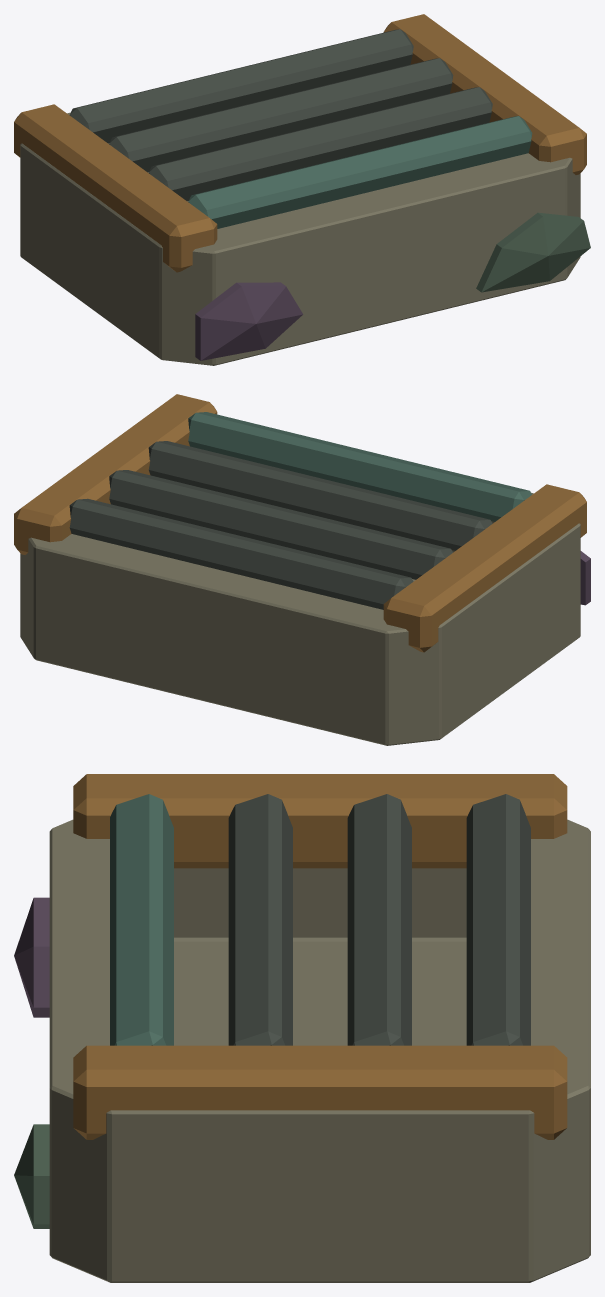
The model's file is SWAMP_GAS_VENT.lo.glb.
3 renders of one model, top to bottom at view 1: azimuth 30°, elevation 25°; view 2: azimuth 150°, elevation 25°; view 3: azimuth 270°, elevation 25°, orthographic. The views are drawn at different scales.
Visible parts, largest first — view 1: Body_Mesh; view 2: Body_Mesh; view 3: Body_Mesh.
Part boxes in pixels (left/top/right/bottom): Body_Mesh: left=14, top=14, right=590, bottom=365; Body_Mesh: left=14, top=394, right=590, bottom=745; Body_Mesh: left=14, top=774, right=590, bottom=1282.
Size of the model in its own units: 1.23 by 0.4024 by 0.97.
